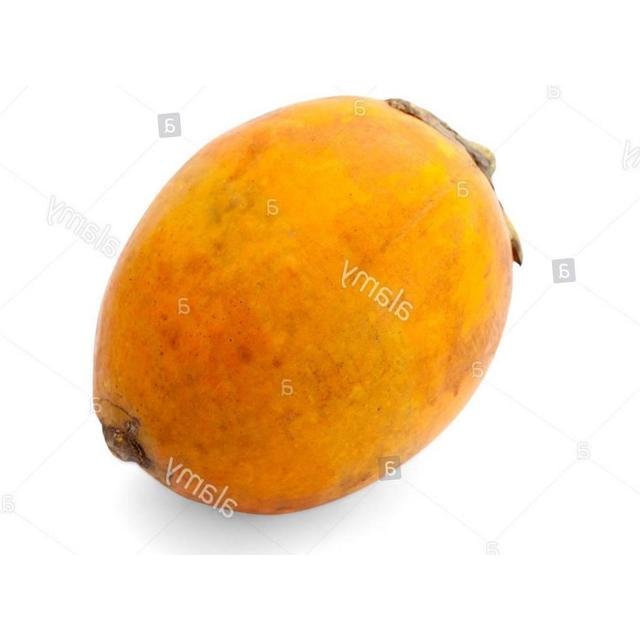good: (90, 95, 521, 518)
